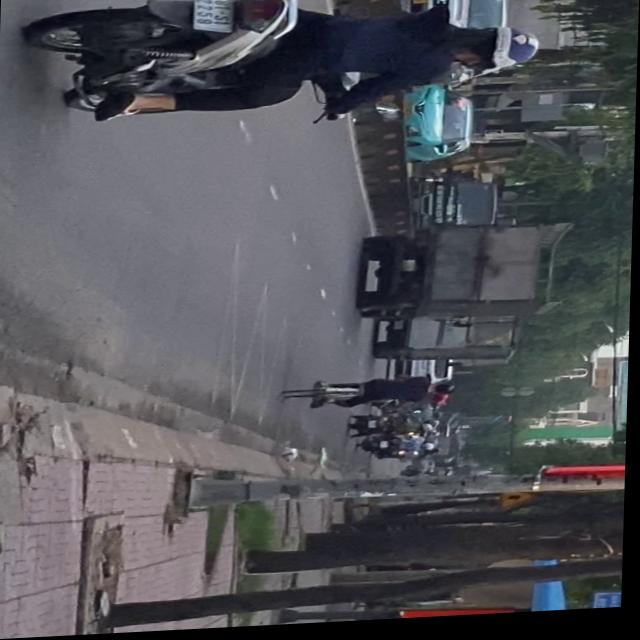helmet: (453, 27, 541, 77)
licenseplate: (18, 0, 544, 137)
nohelmet: (194, 0, 231, 36)
